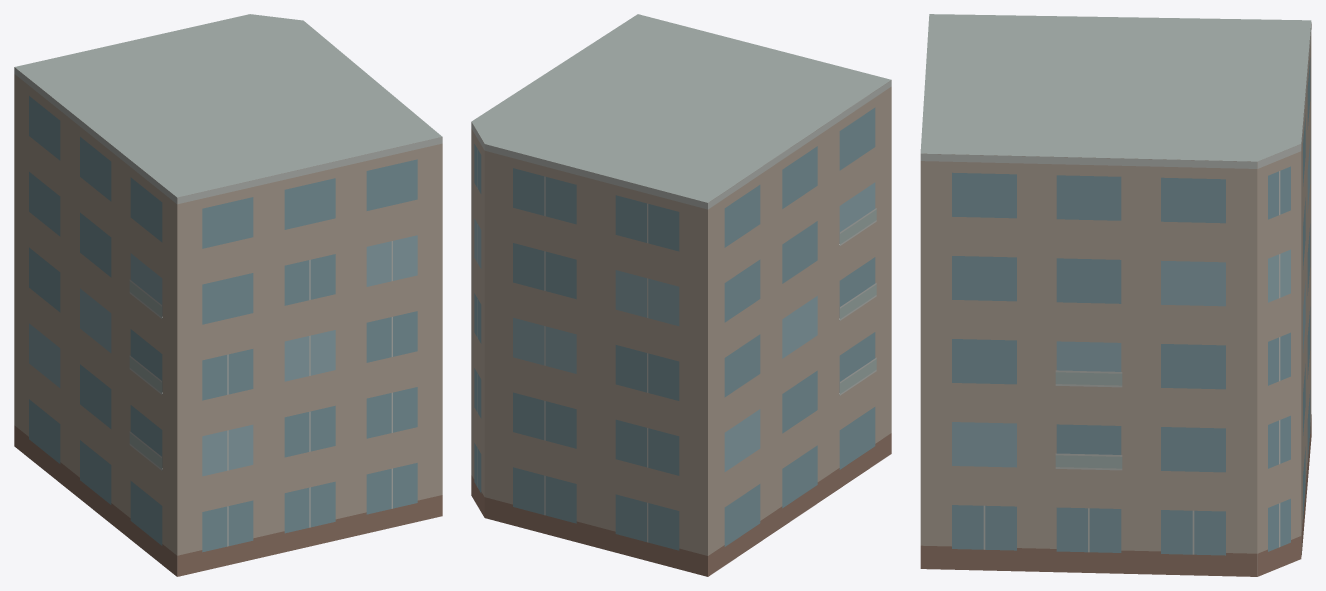
The model's file is survey-upis-32652722.glb.
3 views of the same model, side by side, from view 1: azimuth 30°, elevation 25°; view 2: azimuth 150°, elevation 25°; view 3: azimuth 270°, elevation 25° (orthographic). The views are drawn at different scales.
Parts seen in each view (by area): view 1: survey-upis-32652722.tmp; view 2: survey-upis-32652722.tmp; view 3: survey-upis-32652722.tmp.
Boxes of the visible parts, x1=… form: survey-upis-32652722.tmp: x1=14, y1=14, x2=442, y2=576; survey-upis-32652722.tmp: x1=471, y1=14, x2=891, y2=576; survey-upis-32652722.tmp: x1=920, y1=14, x2=1311, y2=576.
Size of the model in its own units: 10.41 by 13.65 by 11.66.
